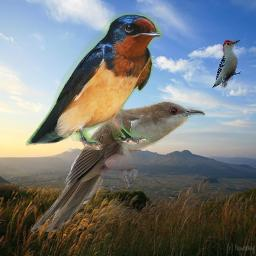Cuckoo: (31, 101, 205, 232)
Swallow: (25, 13, 162, 150)
Woodpecker: (211, 39, 241, 89)
